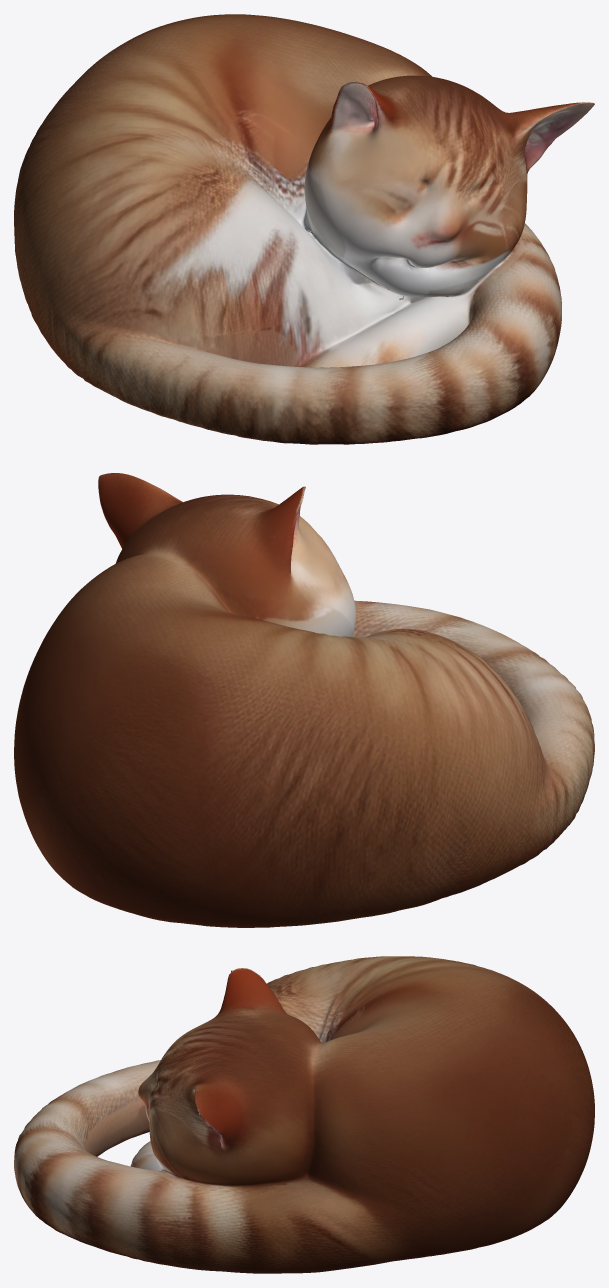
File: cat_sleeping_curled.glb
3 views of the same model, one above another, from view 1: azimuth 30°, elevation 25°; view 2: azimuth 150°, elevation 25°; view 3: azimuth 270°, elevation 25° (orthographic). The views are drawn at different scales.
Parts seen in each view (by area): view 1: model; view 2: model; view 3: model.
Boxes of the visible parts, bbox=[...] form: model: bbox=[14, 14, 594, 444]; model: bbox=[14, 473, 594, 927]; model: bbox=[14, 956, 594, 1273].
Bounding box in the file's own units: 1.6 × 0.8385 × 1.9.
1 material, 1 textured.
